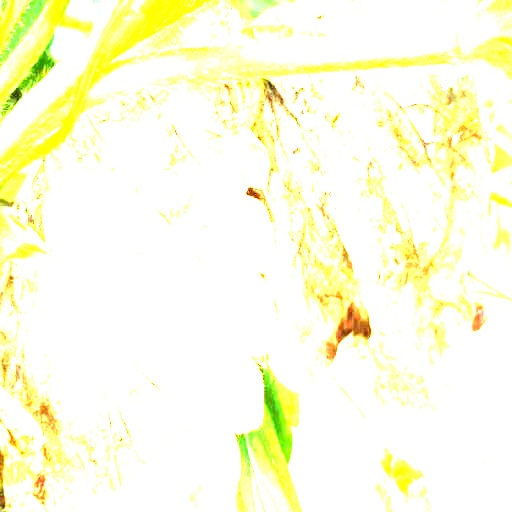Angular Leafspot: (0, 0, 279, 511), (234, 0, 496, 443), (0, 389, 48, 511)
